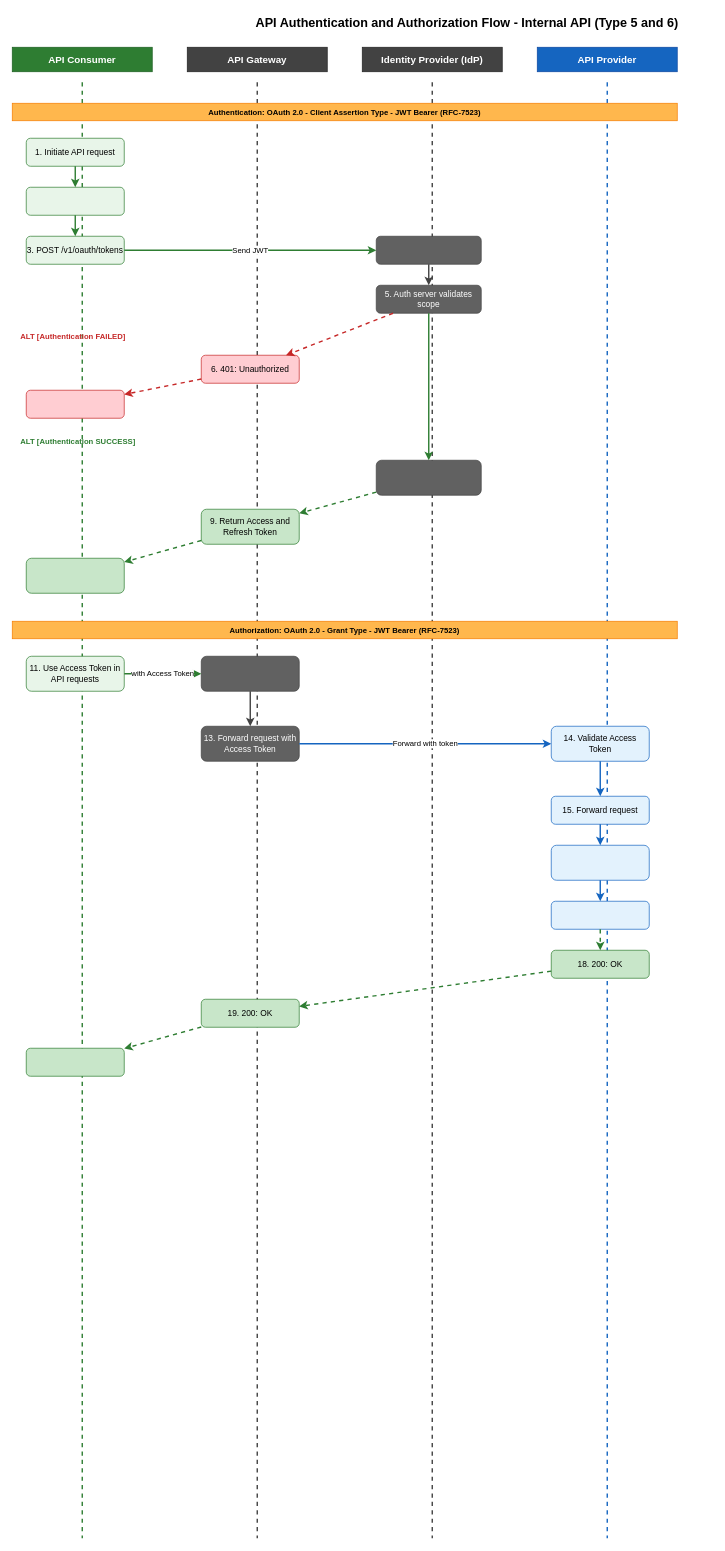
Some shapes in this 725 by 1551 pixel diagram are drawn without their labels. The shapes that lost their labels are listed below. From the top down, each one's box as (x1, y1, x2, y2) in pixels, then its label:
(26, 187, 124, 215): 2. Generate signed JWT
(376, 236, 481, 264): 4. Auth server validates JWT
(26, 390, 124, 418): 7. 401: Unauthorized
(376, 460, 481, 495): 8. Generate Access and Refresh Token
(26, 558, 124, 593): 10. Return Access and Refresh Token
(201, 656, 299, 691): 12. Perform API Gateway policies
(551, 845, 649, 880): 16. Perform fine-grained authorization
(551, 901, 649, 929): 17. Perform business logic
(26, 1048, 124, 1076): 20. 200: OK
